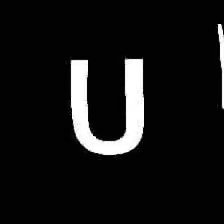LTR_U: (63, 49, 147, 158)
